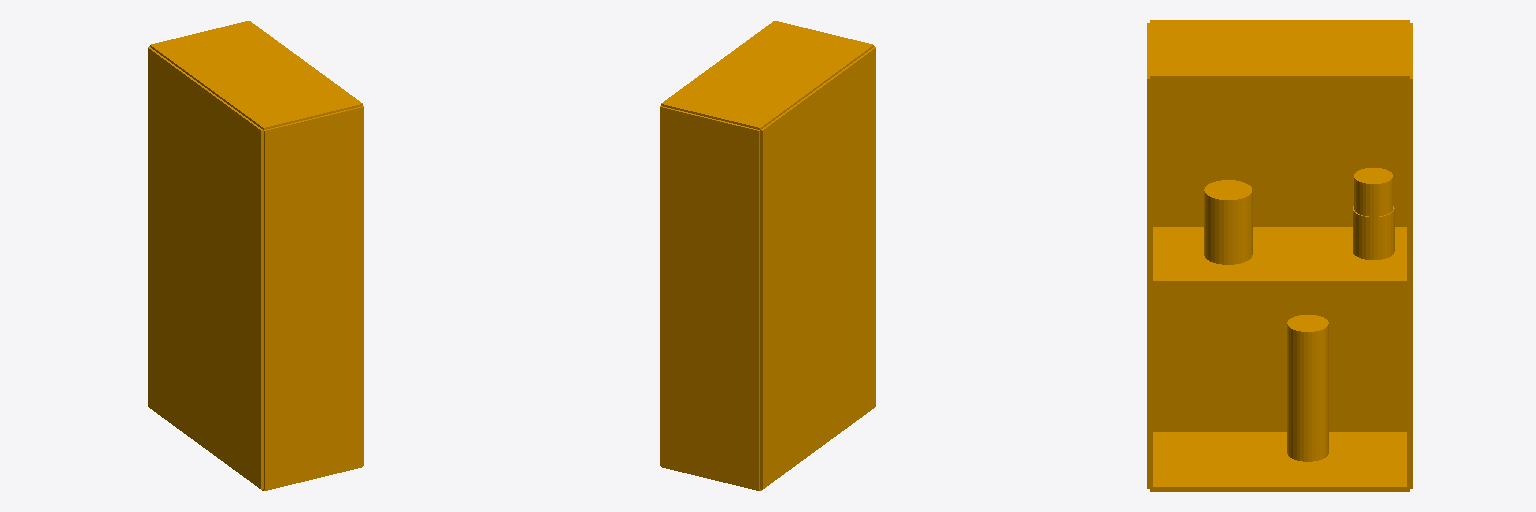
URDF robot description (syn_can_cabinet_1860):
<?xml version="1.0" ?>
<robot name="syn_can_cabinet_1860">
    <link concave="yes" name="base_link">
        <inertial>
            <origin rpy="0 0 0" xyz="0 0 0"/>
            <mass value="0.0"/>
            <inertia ixx="1e-08" ixy="0" ixz="0" iyy="1e-08" iyz="0" izz="1e-08"/>
        </inertial>
        <visual>
            <origin xyz="0 0 0" rpy="0 0 0" />
            <geometry>
                <mesh filename="syn_can_cabinet_1860.obj" scale="1.000000 1.000000 1.000000"/>
            </geometry>         
        </visual>

        <collision concave="yes">
            <origin xyz="0 0 0" rpy="0 0 0"/>
            <geometry>
                <mesh filename="syn_can_cabinet_1860.obj" scale="1.000000 1.000000 1.000000"/>
            </geometry>
        </collision>
    </link>
</robot>
    

--- What the picture shows (computed from the rendered views, not written in the file) ---
The picture shows the robot from 3 angles, left to right: view 1: azimuth 30°, elevation 25°; view 2: azimuth 150°, elevation 25°; view 3: azimuth 270°, elevation 25°; orthographic projection.
Robot: syn_can_cabinet_1860 — 1 links, 0 joints (none); root link base_link; default pose: every joint at zero.
Visible links, largest first — view 1: base_link; view 2: base_link; view 3: base_link.
Link boxes in pixels (x1,y1,x2,y2): base_link: [148, 21, 363, 490]; base_link: [660, 21, 875, 490]; base_link: [1147, 20, 1412, 491].
Bounding box of the posed robot: 0.1666 × 0.3295 × 0.5693 m (x, y, z).
1 mesh visuals loaded from 1 distinct referenced files (1 OBJ).
